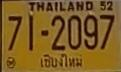0: (67, 14, 81, 49)
1: (28, 15, 33, 50)
2: (51, 14, 64, 50)
7: (99, 14, 114, 49), (8, 15, 22, 50)
9: (83, 14, 97, 49)
CMI: (38, 52, 85, 70)
